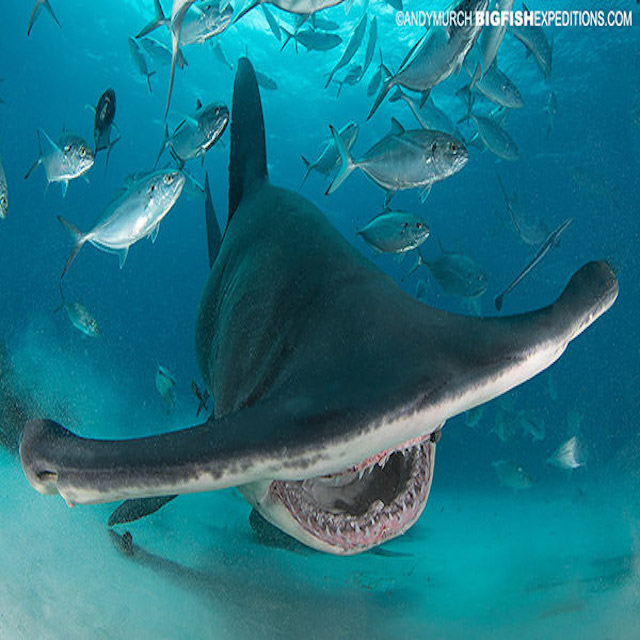hammerhead: (54, 234, 600, 541)
